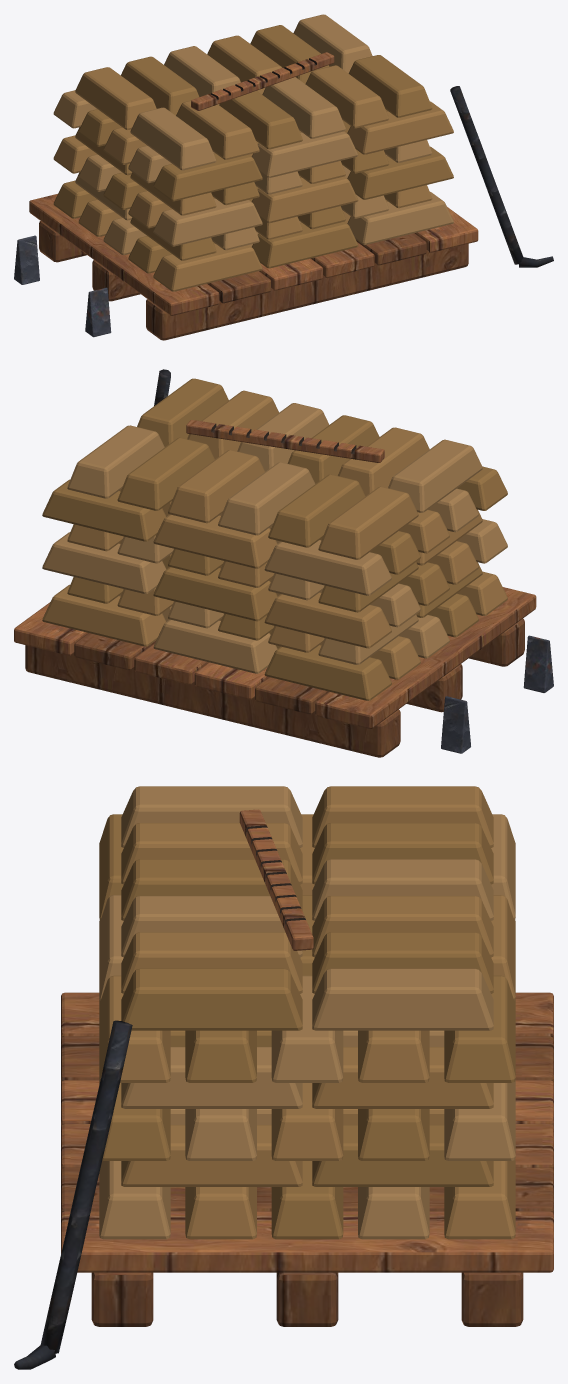
File: hw_ingot_stack.glb
The picture shows the model from 3 angles, top to bottom: view 1: azimuth 30°, elevation 25°; view 2: azimuth 150°, elevation 25°; view 3: azimuth 270°, elevation 25°; orthographic projection. The views are drawn at different scales.
Parts seen in each view (by area): view 1: model; view 2: model; view 3: model.
Part boxes in pixels (<box>): model: <box>14,14,553,340</box>; model: <box>14,369,553,757</box>; model: <box>14,786,553,1369</box>.
Size of the model in its own units: 1.35 by 0.5845 by 0.8763.
Materials: 10 (6 with a texture image).
